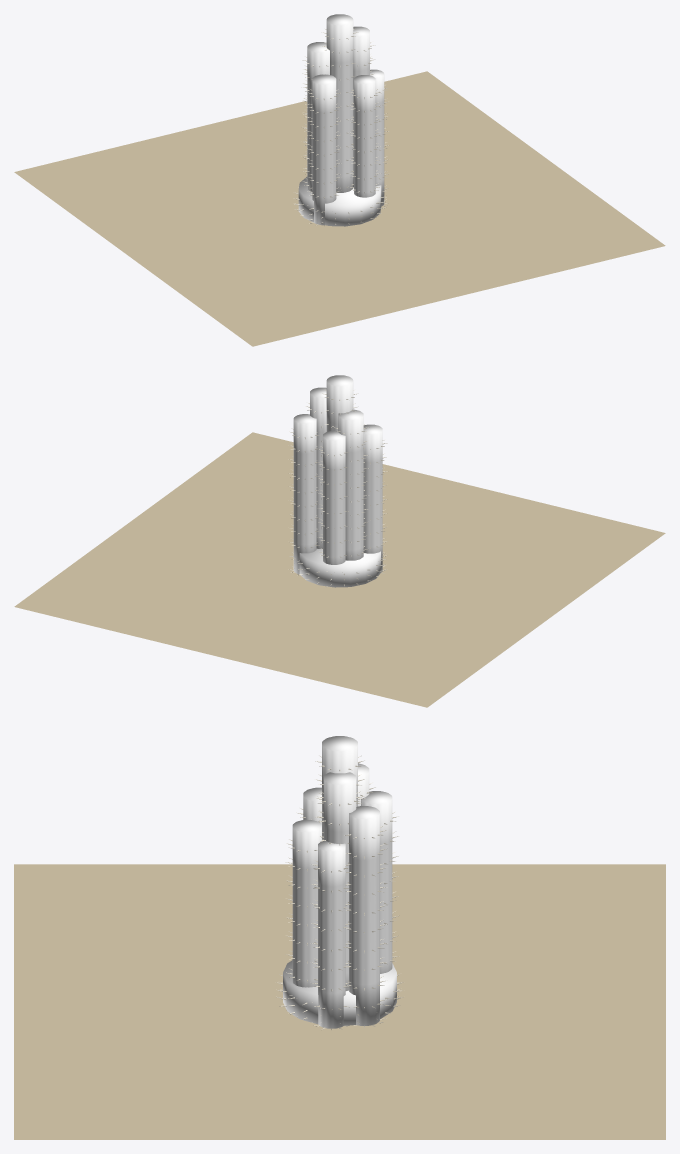
3 views of the same model, one above another, from view 1: azimuth 30°, elevation 25°; view 2: azimuth 150°, elevation 25°; view 3: azimuth 270°, elevation 25° (orthographic). The views are drawn at different scales.
Bounding box in the file's own units: 8 × 3.54 × 8.
